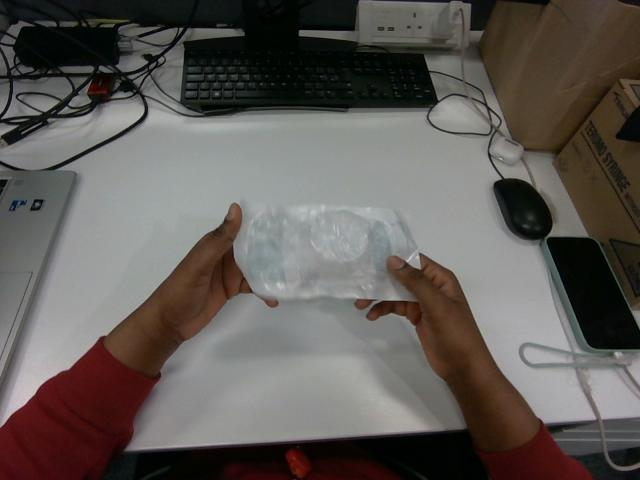gallipot: (234, 204, 419, 299)
